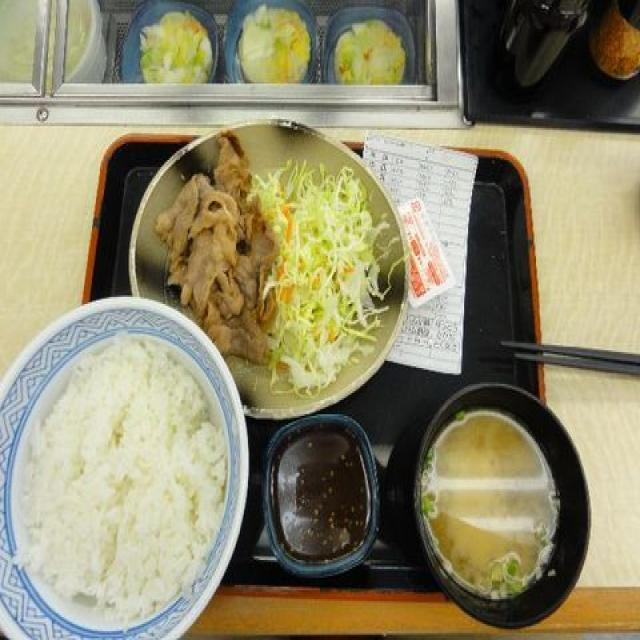Green Salad: (272, 173, 384, 375)
Rice: (14, 338, 218, 604)
